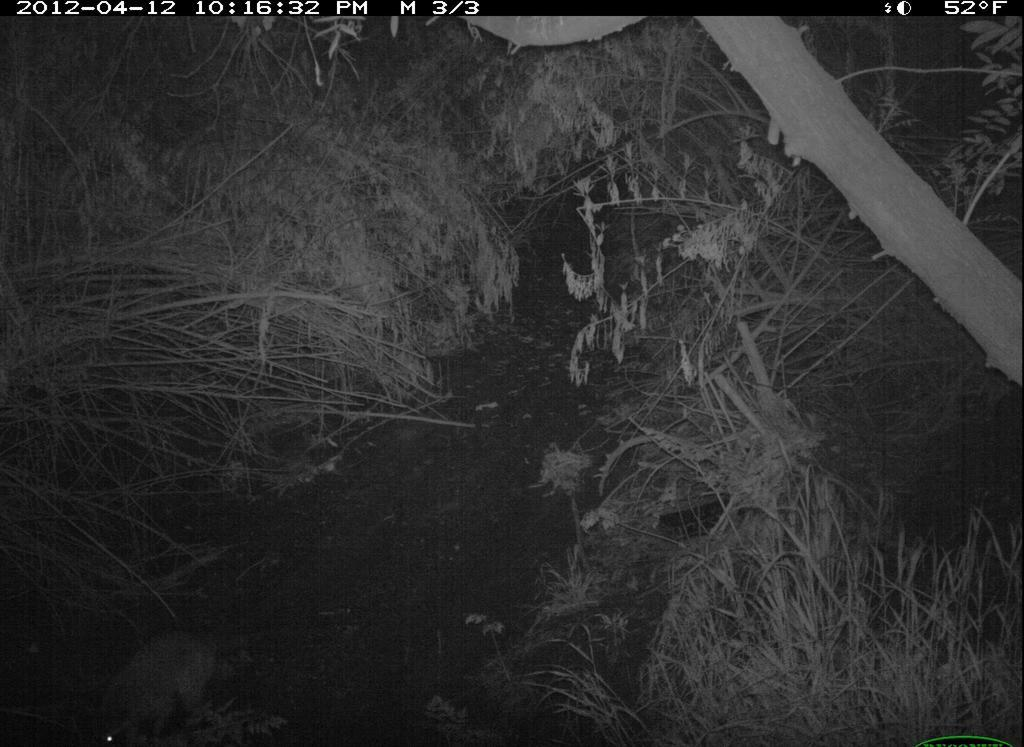raccoon: (76, 609, 226, 747)
